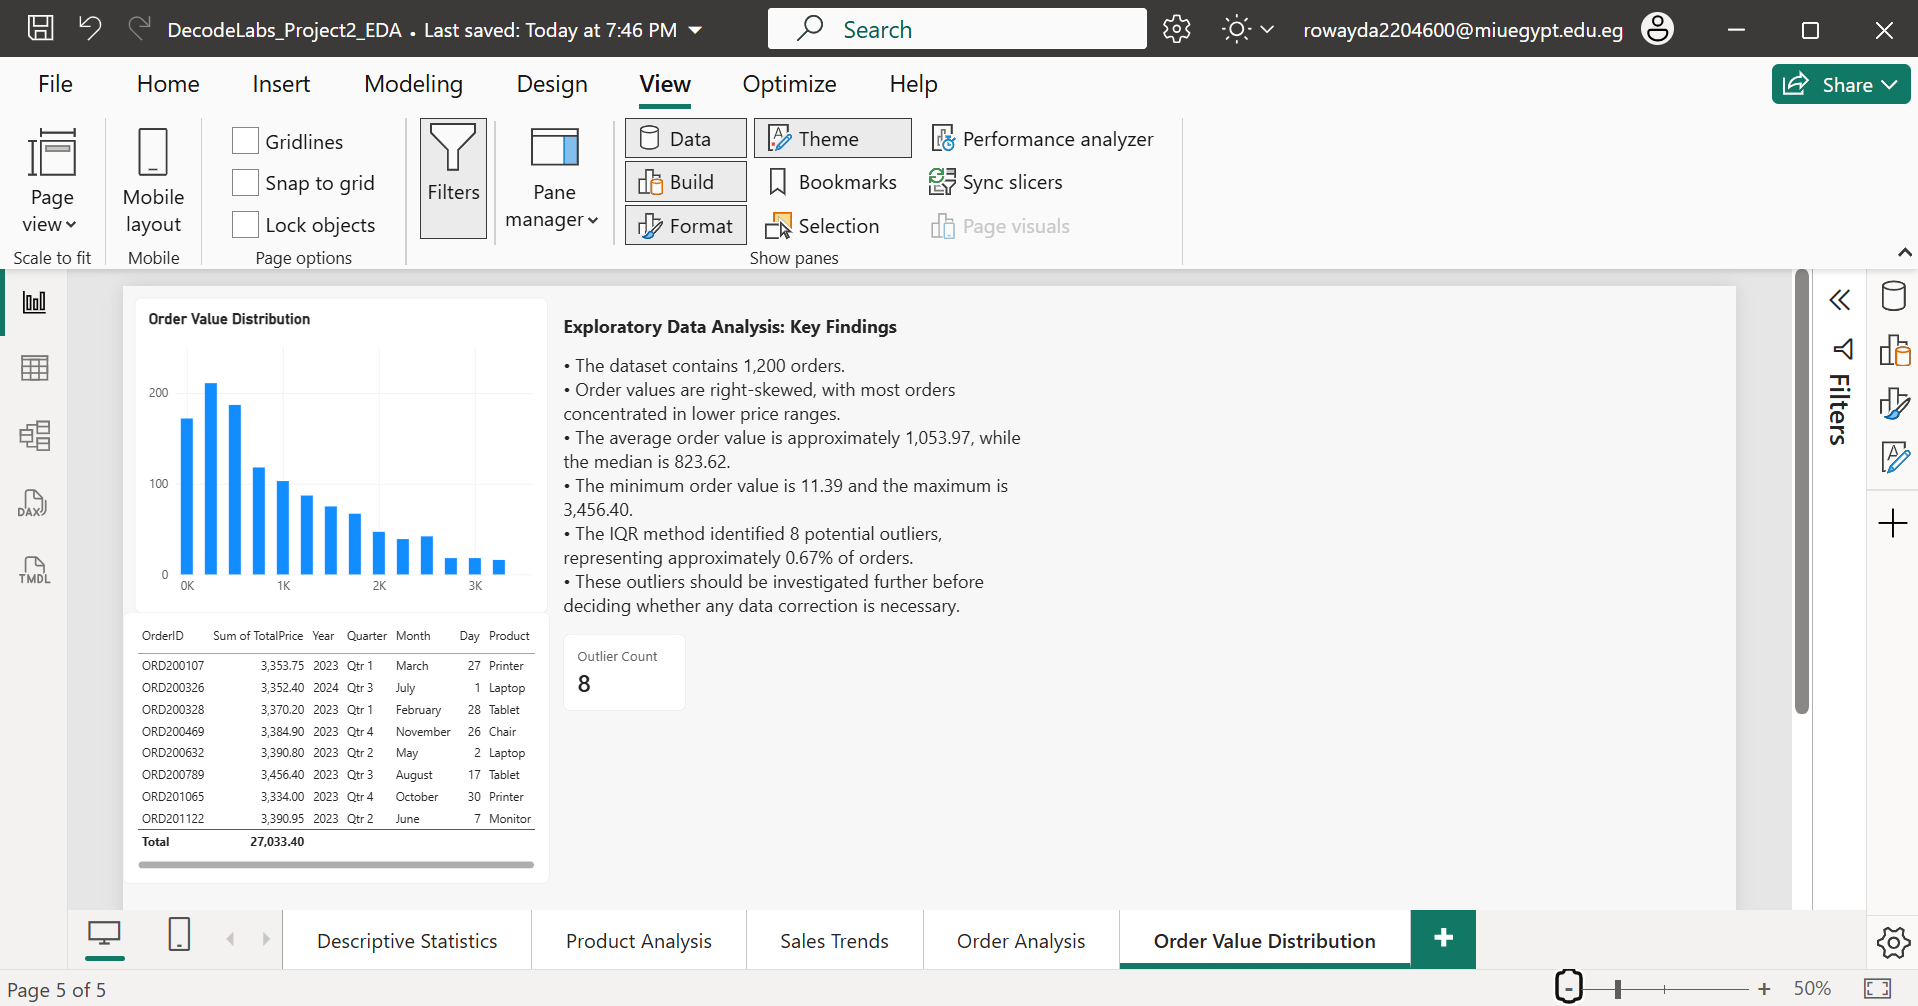

The dashboard page shown, as its layout file describes it:
{"tool":"powerbi","page":{"name":"Order Value Distribution","canvas":[1920,1080],"ordinal":4},"visuals":[{"type":"clusteredColumnChart","title":"Order Value Distribution","fields":{"Category":["Cleaned_Data.TotalPrice (bins)"],"Y":["Count(Cleaned_Data.OrderID)"]},"box":[13.5,13.5,491.7,375],"z":0},{"type":"cardVisual","fields":{"Data":["Cleaned_Data.Outlier Count"]},"box":[523.1,413.5,146.2,92.3],"z":1000},{"type":"tableEx","fields":{"Values":["Cleaned_Data.OrderID","Sum(Cleaned_Data.TotalPrice)","Cleaned_Data.Date.Variation.Date Hierarchy.Year","Cleaned_Data.Date.Variation.Date Hierarchy.Quarter","Cleaned_Data.Date.Variation.Date Hierarchy.Month","Cleaned_Data.Date.Variation.Date Hierarchy.Day","Cleaned_Data.Product"]},"box":[0,388.5,507.7,323.1],"z":2000},{"type":"textbox","box":[523.1,13.5,555.8,426.9],"z":3000}]}

Visuals, with their boxes on the page's 1920x1080 design canvas (x1, y1, x2, y2). These are canvas units, not pixel positions in the 1918x1006 screenshot, which may show the page scaled, cropped or inside an application window:
"Order Value Distribution" clusteredColumnChart: [left=14, top=14, right=505, bottom=388]
cardVisual - Cleaned_Data.Outlier Count: [left=523, top=414, right=669, bottom=506]
tableEx - Cleaned_Data.OrderID x Sum(Cleaned_Data.TotalPrice): [left=0, top=388, right=508, bottom=712]
textbox: [left=523, top=14, right=1079, bottom=440]
